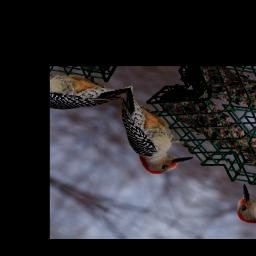Woodpecker: (86, 89, 214, 184)
